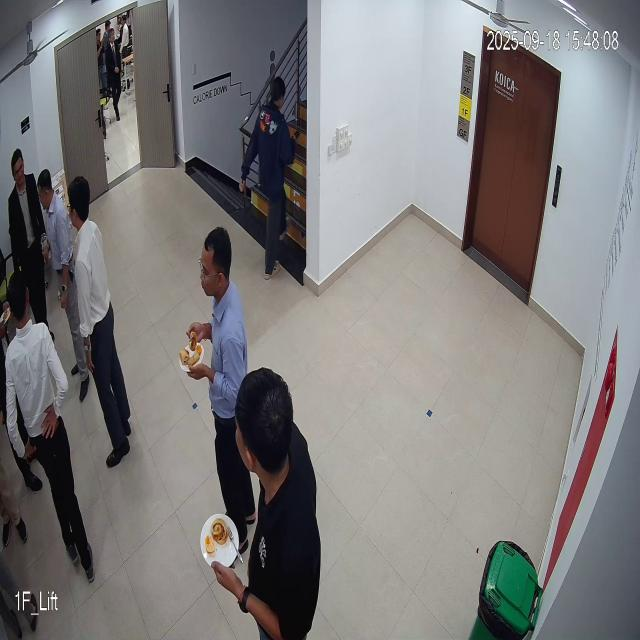face: (198, 227, 234, 303)
